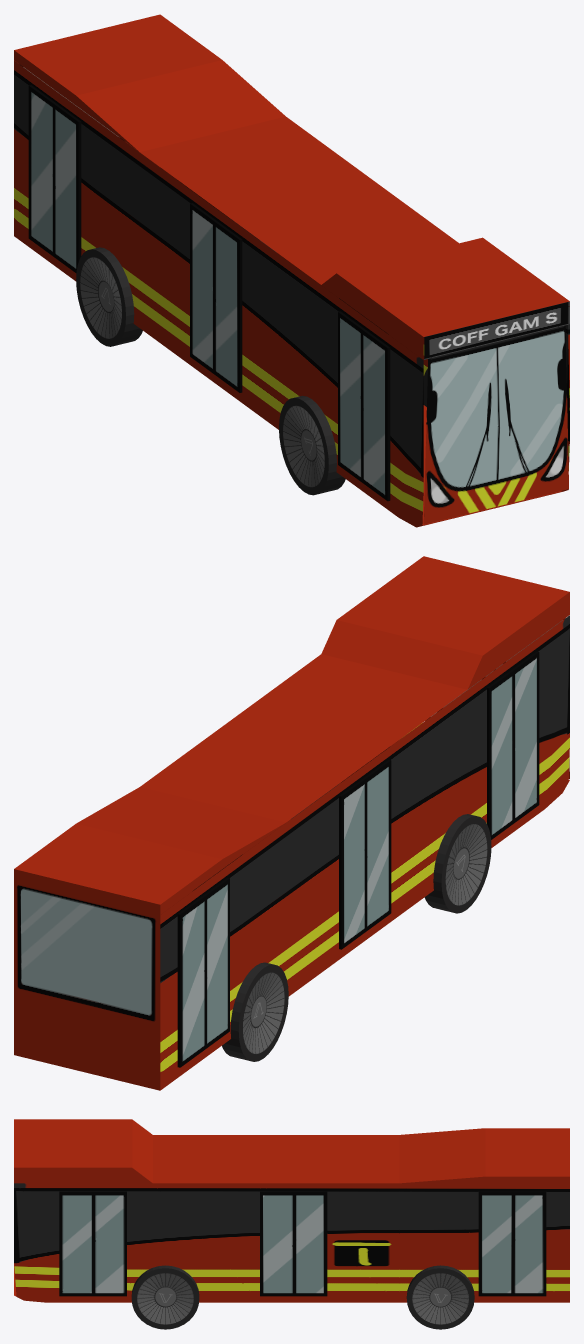
The model's file is bus_revisado.fbx.
3 views of the same model, one above another, from view 1: azimuth 30°, elevation 25°; view 2: azimuth 150°, elevation 25°; view 3: azimuth 270°, elevation 25° (orthographic). The views are drawn at different scales.
Visible parts, largest first — view 1: Cube, puertas, ruedas; view 2: Cube, puertas, ruedas; view 3: Cube, puertas, ruedas.
Boxes of the visible parts, x1,y1,x2,y2 form: Cube: (14, 14, 569, 527); puertas: (28, 85, 390, 501); ruedas: (76, 217, 427, 495); Cube: (14, 556, 569, 1090); puertas: (177, 651, 539, 1067); ruedas: (222, 783, 491, 1061); Cube: (14, 1119, 569, 1302); puertas: (59, 1191, 546, 1296); ruedas: (131, 1265, 474, 1329).
Bounding box in the file's own units: 133 × 184 × 582.
3 materials, 3 textured.
